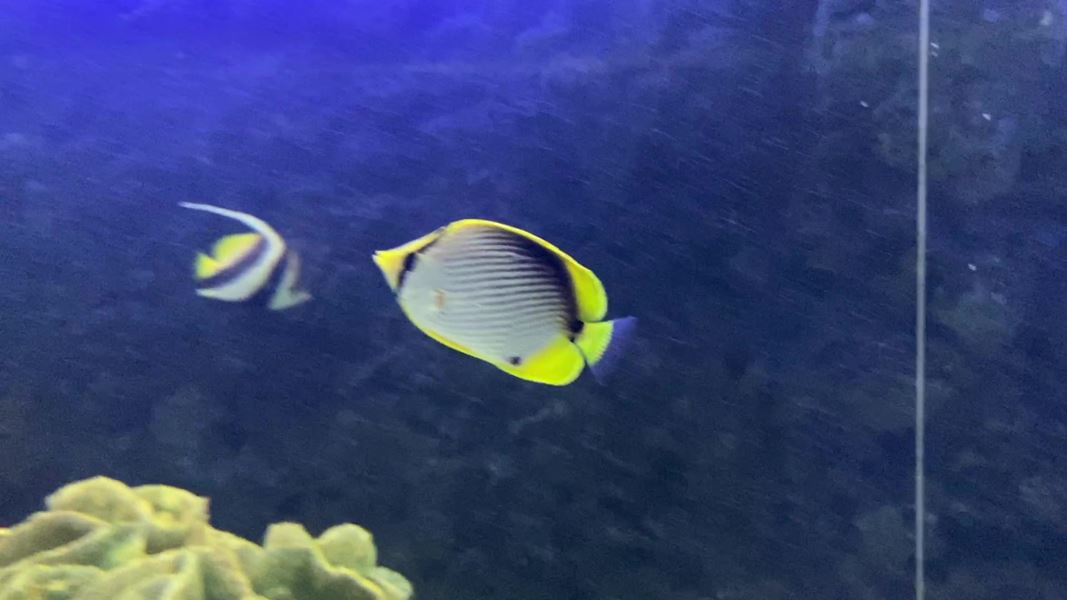Black-backed butterflyfish: (359, 209, 648, 398)
